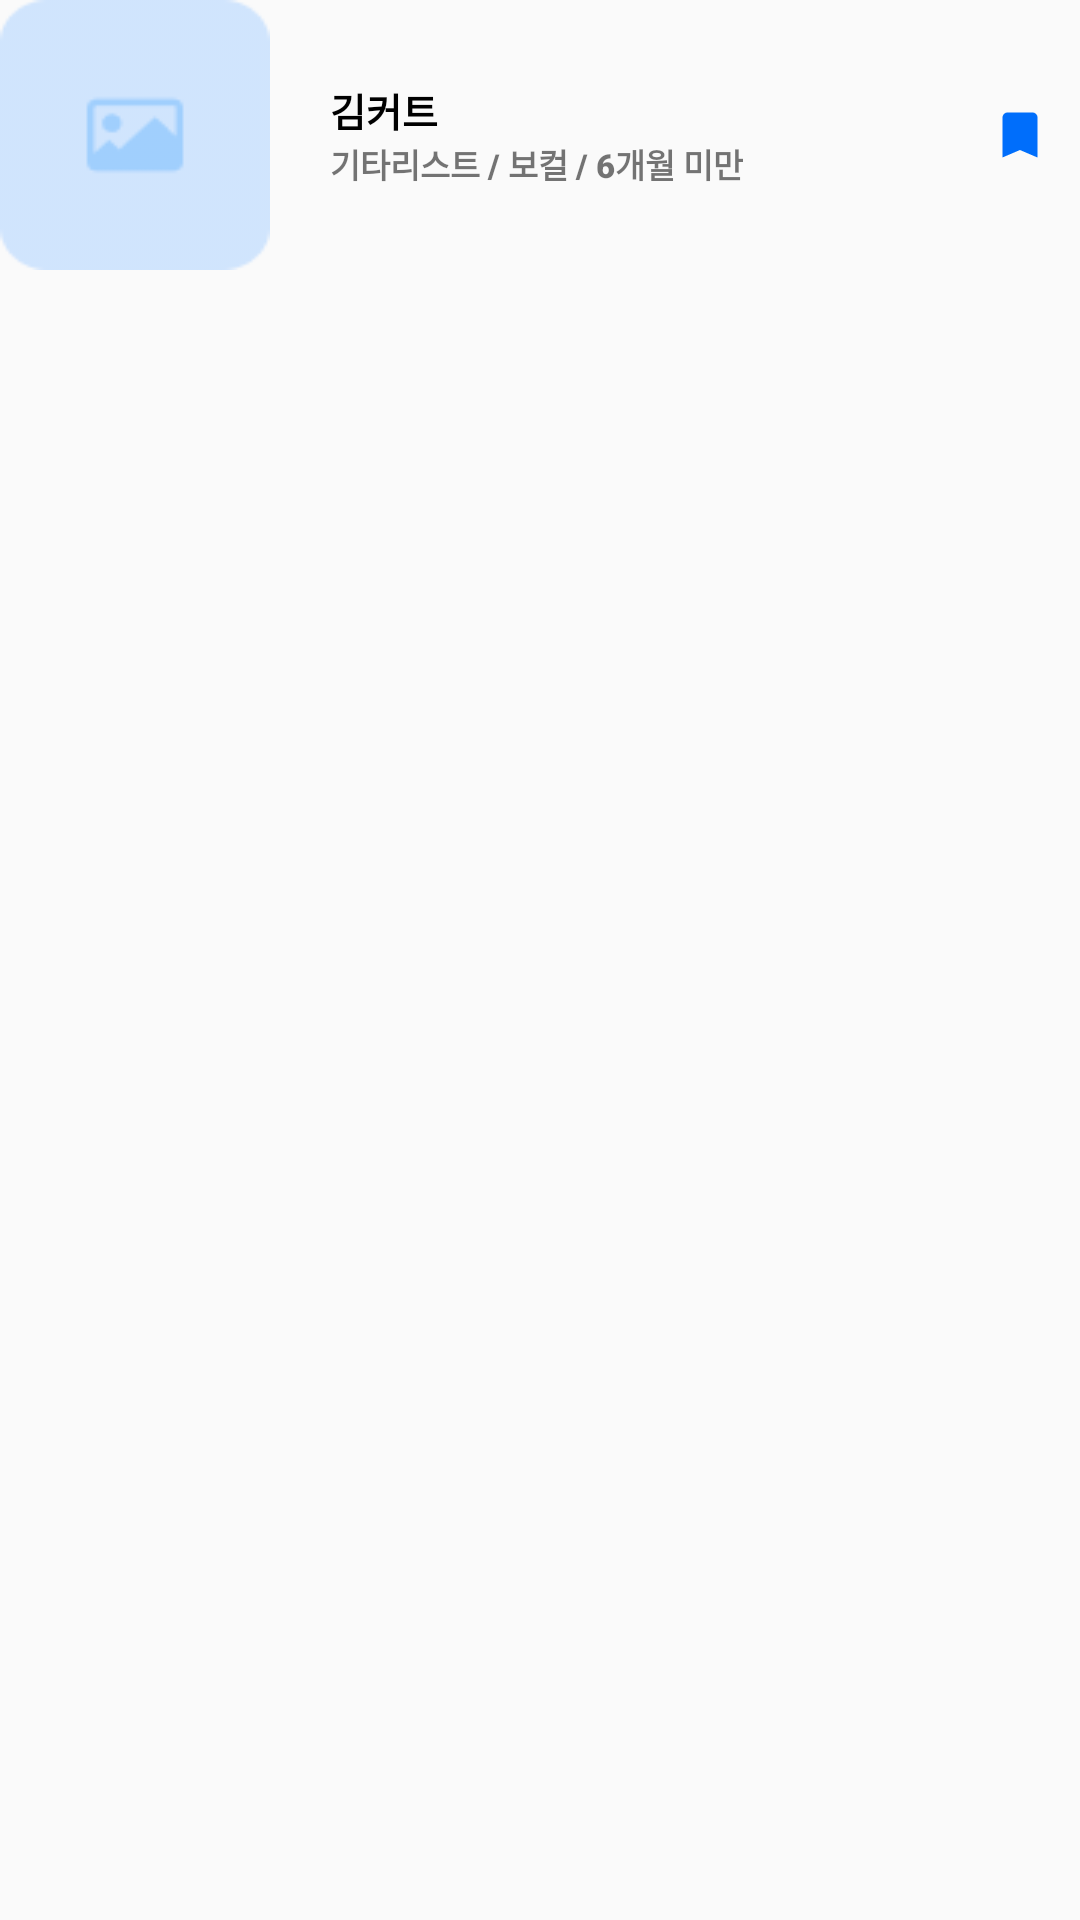

Icons on this 1080×1920 Android screen, each with its box as [x1, y1, x2, y2]:
bookmark: [1002, 112, 1038, 158]
